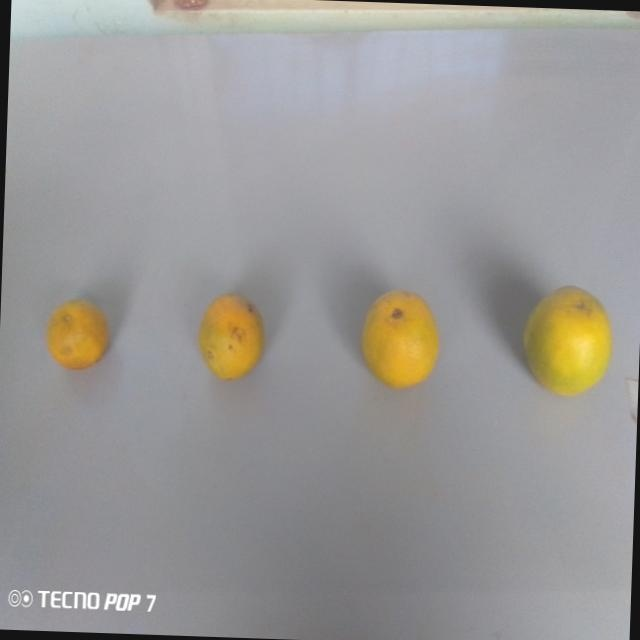agrume: (515, 278, 621, 414), (355, 280, 445, 403), (193, 288, 270, 388), (36, 291, 116, 377)
